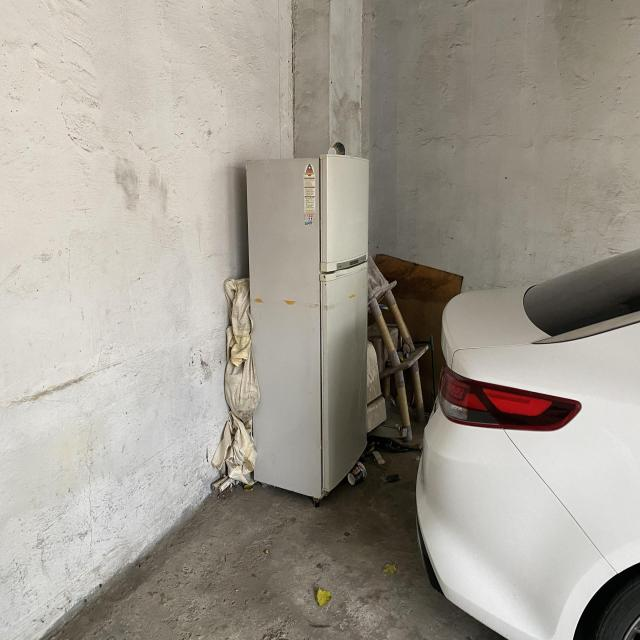refrigerator: (244, 152, 368, 506)
